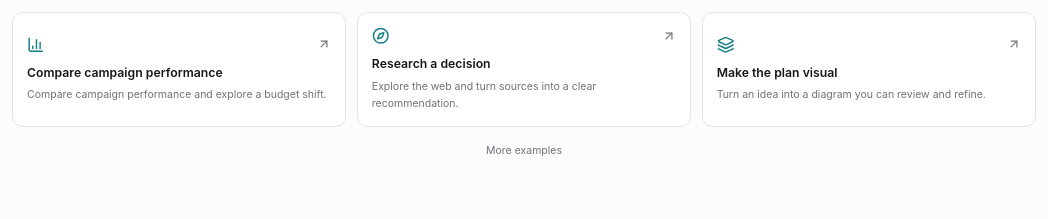
it: PromptSuggestions Component › should render all category chips
This screenshot has width=1048, height=219.
Click the button "More examples" at (524, 151), box left=486, top=144, right=562, bottom=158
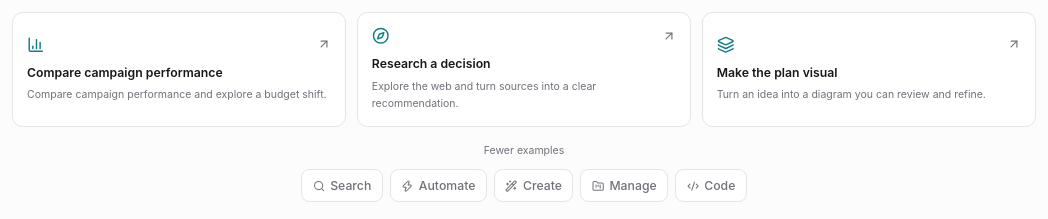
Expected: the button "Search" is shown, left=301, top=169, right=383, bottom=202
Expected: the button "Automate" is shown, left=390, top=169, right=487, bottom=202
Expected: the button "Create" is shown, left=494, top=169, right=573, bottom=202
